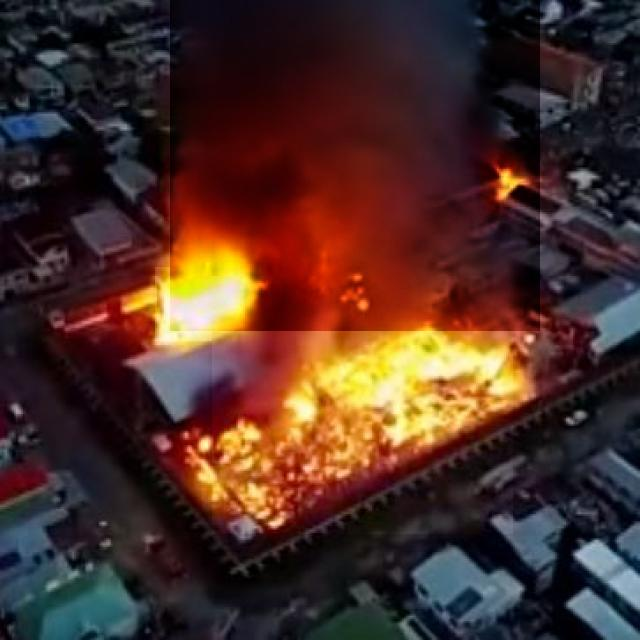Fire: (212, 320, 513, 534), (155, 267, 261, 341)
Smoke: (170, 0, 540, 331)
